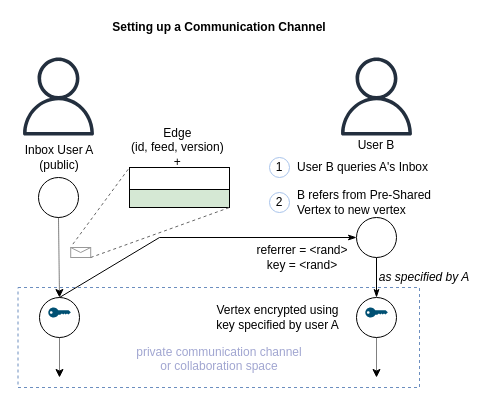
This 496x405 diagram has some shape labels left out. Here are the shapes that lost their labels. From the top down, the centre of each, then its label:
(x=179, y=178): Sealed Box to B
(x=179, y=198): encryption key
